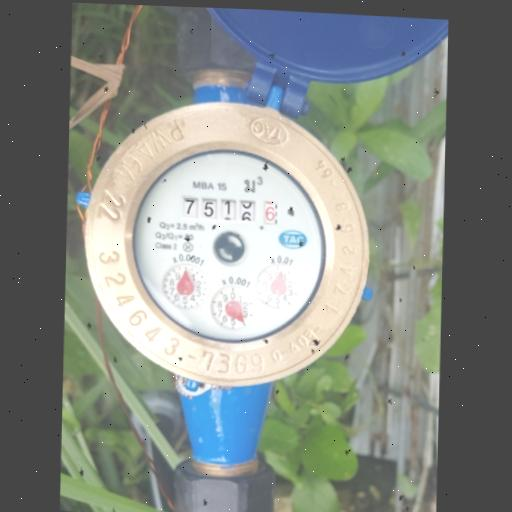1: (222, 199, 235, 221)
5: (202, 198, 217, 220), (241, 201, 256, 222)
6: (264, 201, 277, 224)
7: (183, 198, 198, 218)
border_water_meter_number: (180, 194, 279, 226)
